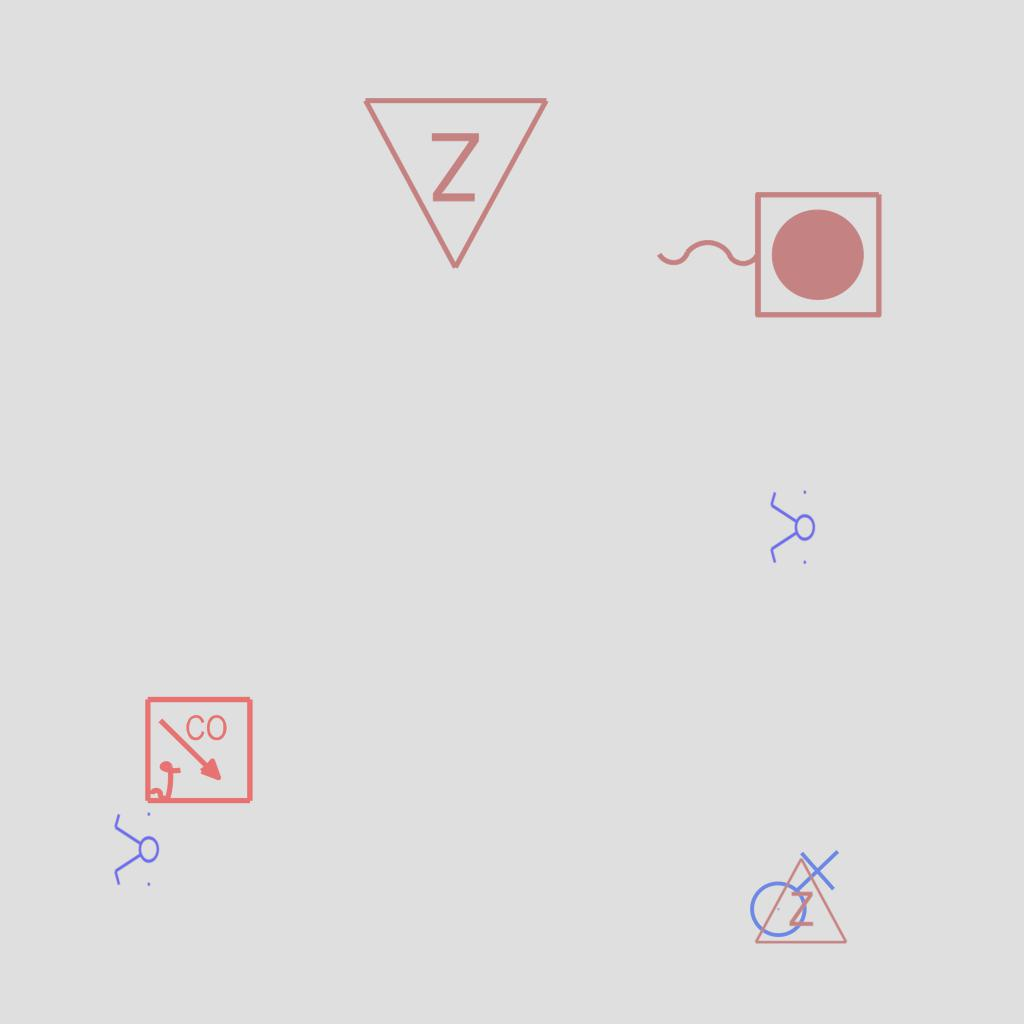Elektroanschluss_allgemein_230V_Geraeteanschlussdose_230V: (741, 845, 840, 939)
ROA_Rauchmelder_optisch_mit_Signalgeber_(Sockelsirene): (143, 695, 256, 808)
Serienschalter: (112, 808, 160, 892), (768, 486, 816, 570)
Zimmersignalleuchte: (360, 83, 556, 283), (751, 851, 849, 951)
Zugtaster: (646, 181, 890, 325)
